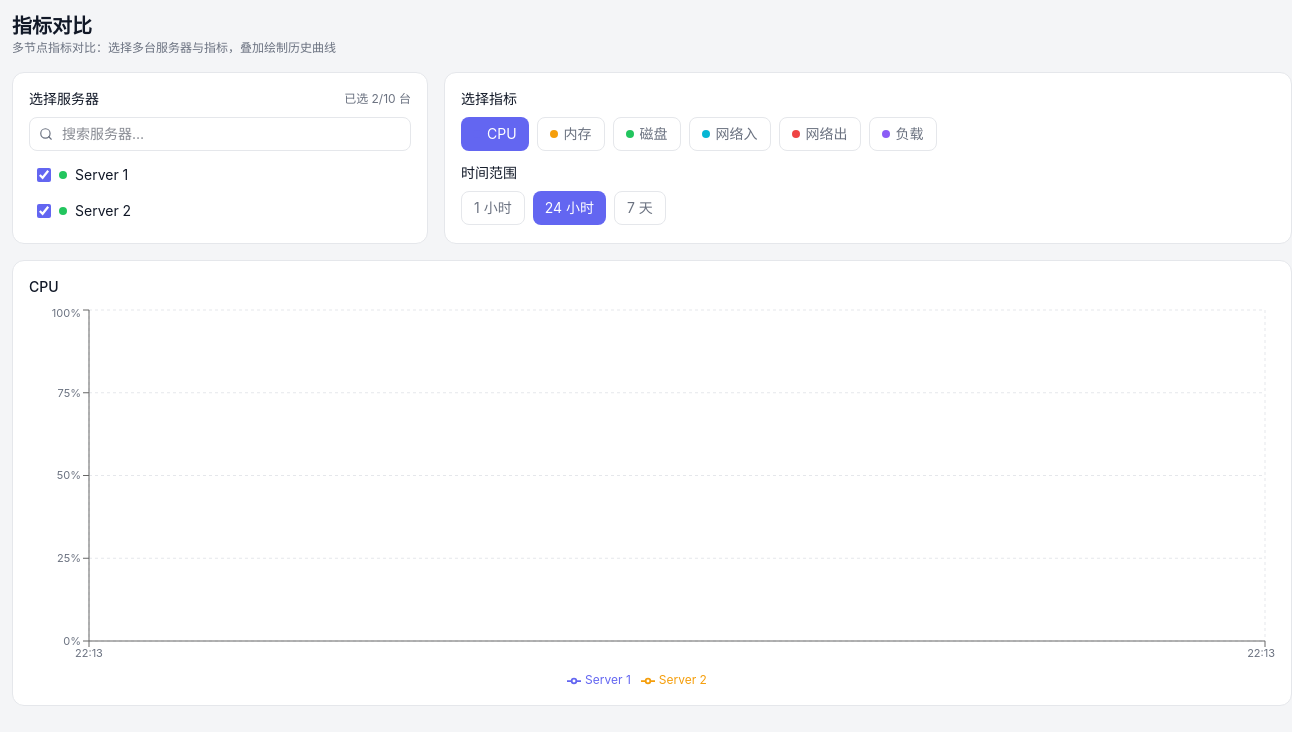
Test: Compare page — multi-server metric comparison › unchecking a server removes it from the compare request
Click the checkbox labelled "Server 2" at (44, 211), box [37,204,51,218]
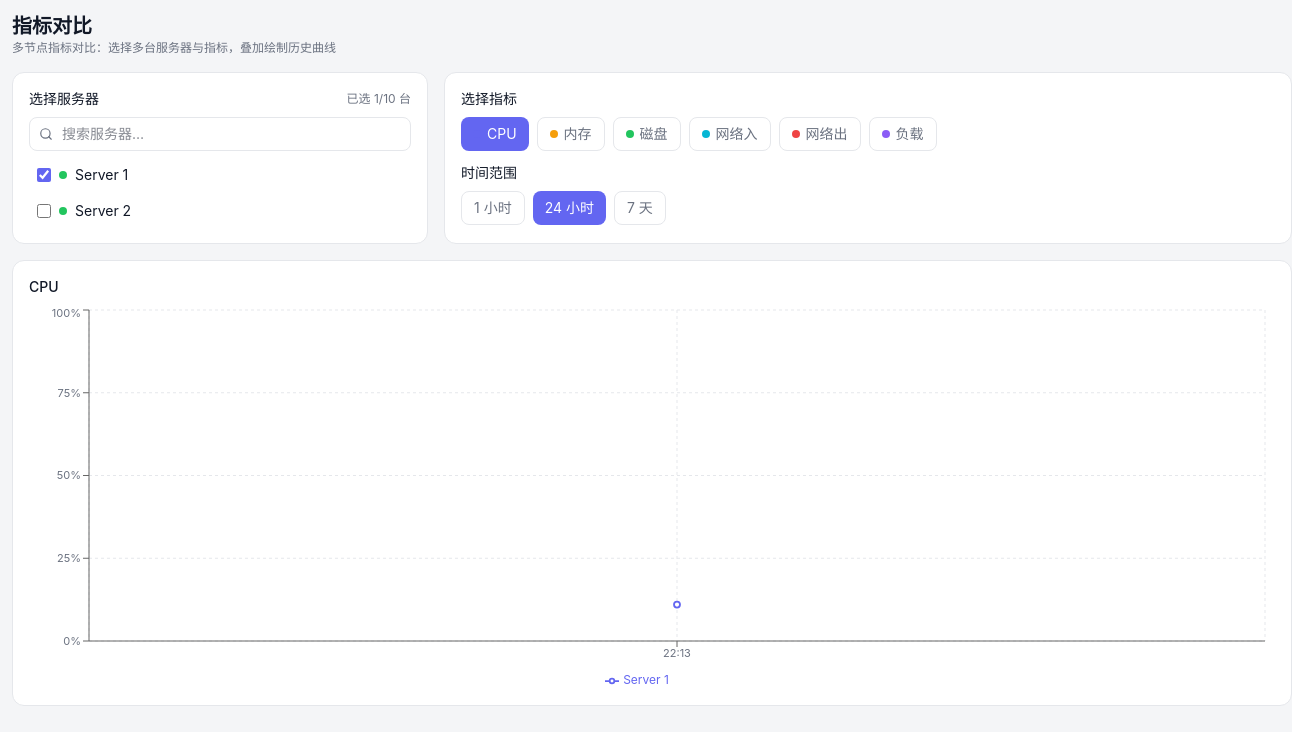
Expected: the text "已选 1/10 台" is shown, [347,91,411,107]
